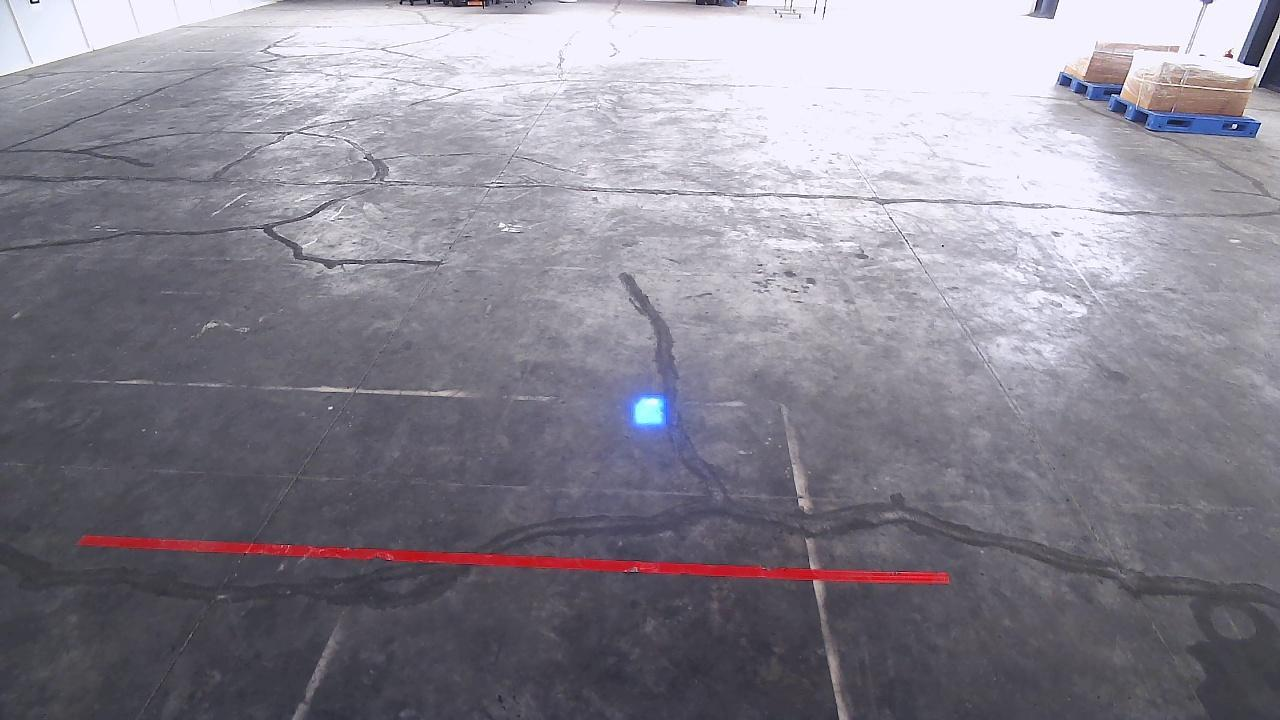red_line: (76, 532, 953, 583)
